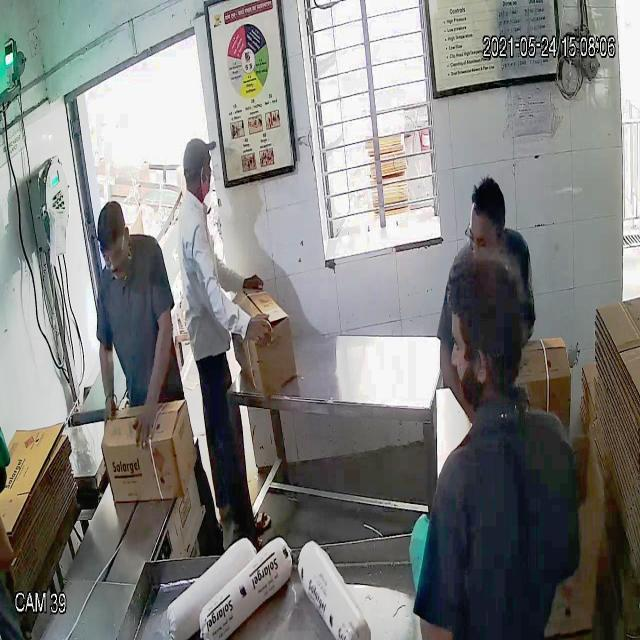glasses: (97, 235, 129, 268)
